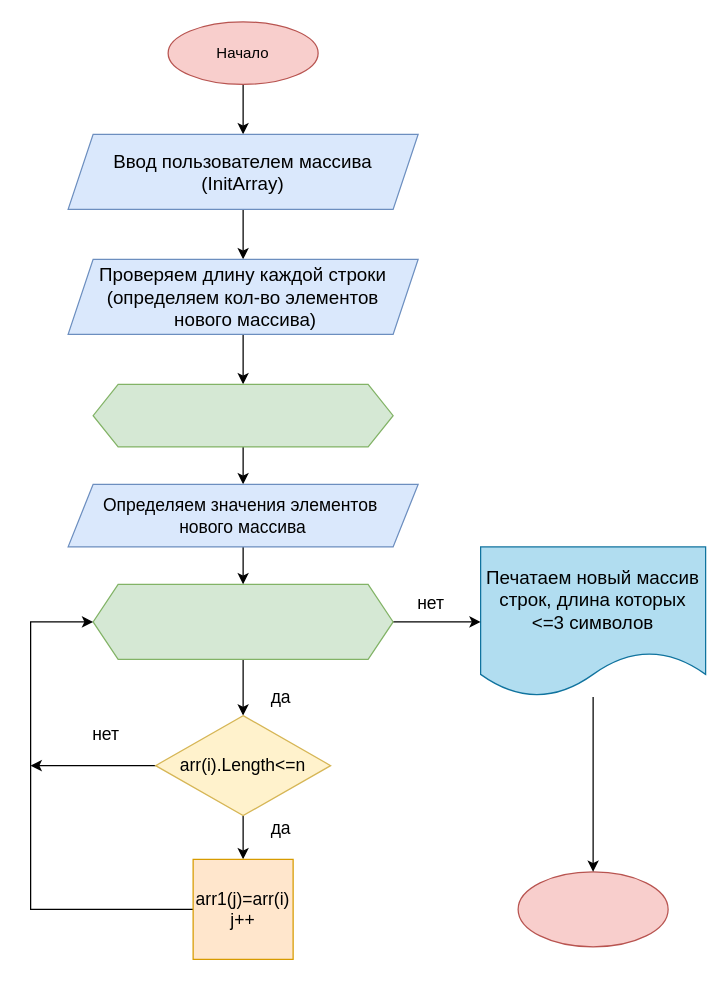
Some shapes in this 728 by 981 pixel diagram are drawn without their labels. The shapes that lost their labels are listed below. From the top down, each one's centre as x and y in pixels, then its label:
At (242,415): "i=0, i<array.Length, i++".
At (242,621): "i=o, j=0, i<arr.Length, i++".
At (592,909): "Завершение".
